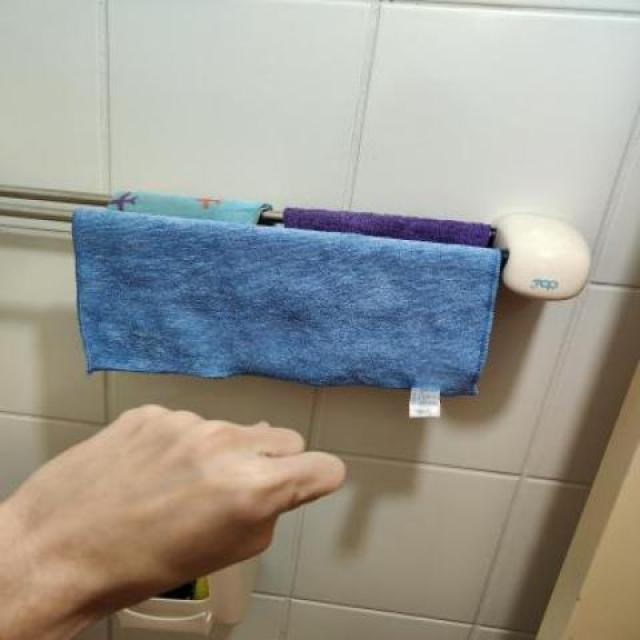Closed Hand: (0, 398, 353, 640)
